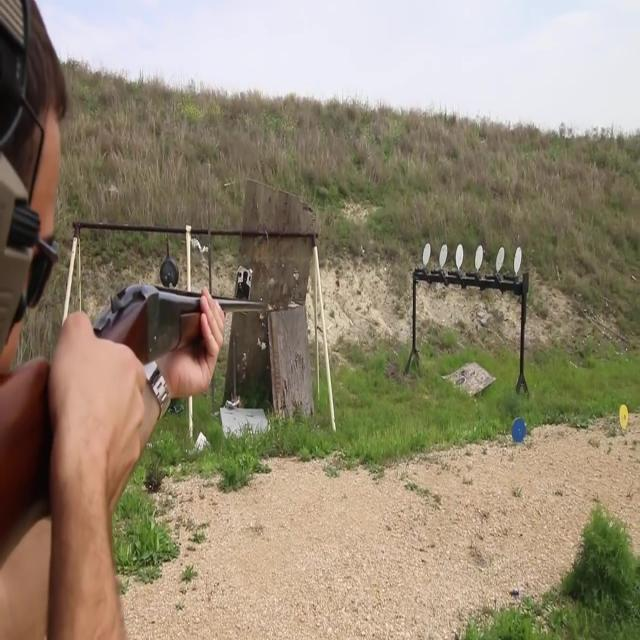Weapon: (0, 253, 303, 505)
